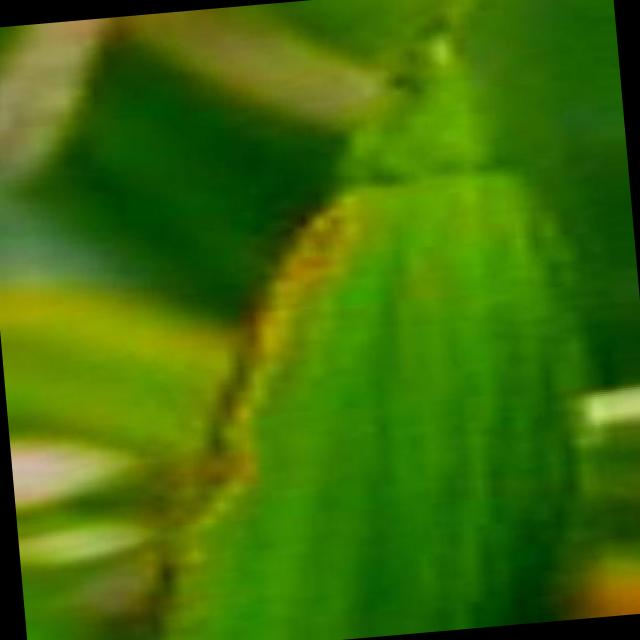Rice_Bacterial_Blight: (63, 0, 530, 623)
